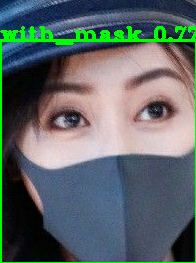with_mask: (3, 28, 196, 258)
